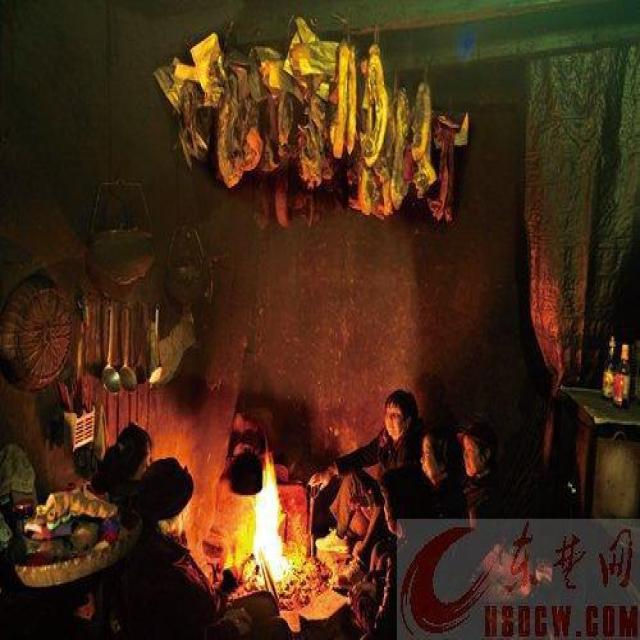fire: (233, 455, 300, 603)
other: (185, 42, 434, 206), (398, 524, 632, 634), (367, 378, 455, 475), (139, 378, 186, 475), (510, 265, 568, 333)
